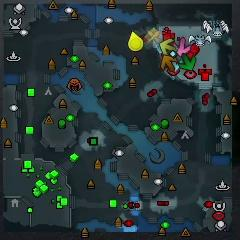p4: (128, 31, 144, 51)
x1: (173, 37, 190, 56)
x2: (160, 39, 176, 55)
x3: (170, 56, 181, 73)
x4: (180, 53, 197, 71)
x5: (160, 55, 176, 72)
